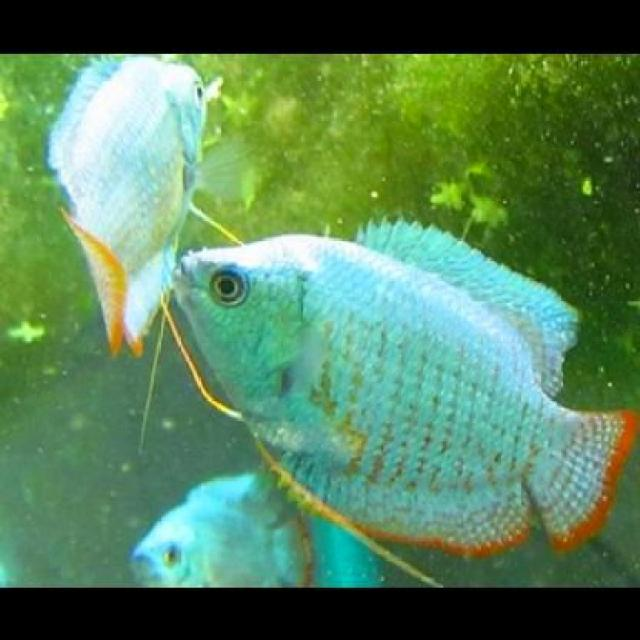Gourami: (171, 211, 638, 549)
